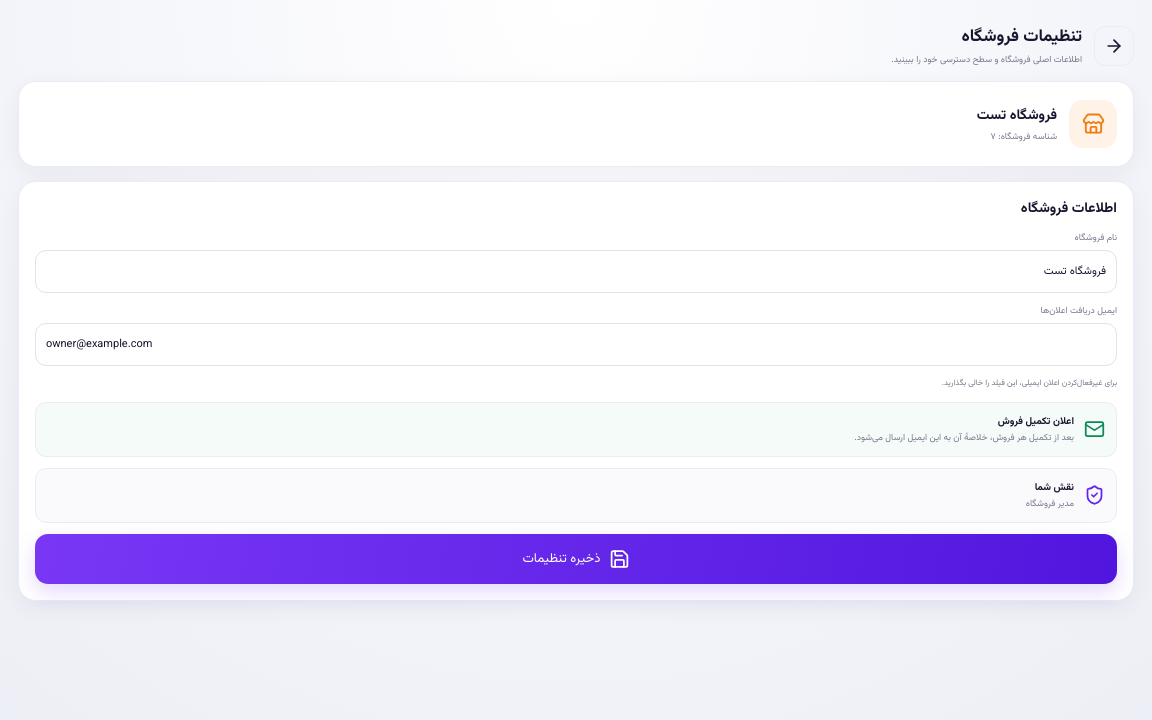
Test: StoreSettingsPage notification email › rejects an invalid email locally and displays backend field errors
This screenshot has width=1152, height=720.
In the field labelled "ایمیل دریافت اعلان‌ها": (576, 344) [35, 323, 1117, 366], type "invalid-email"
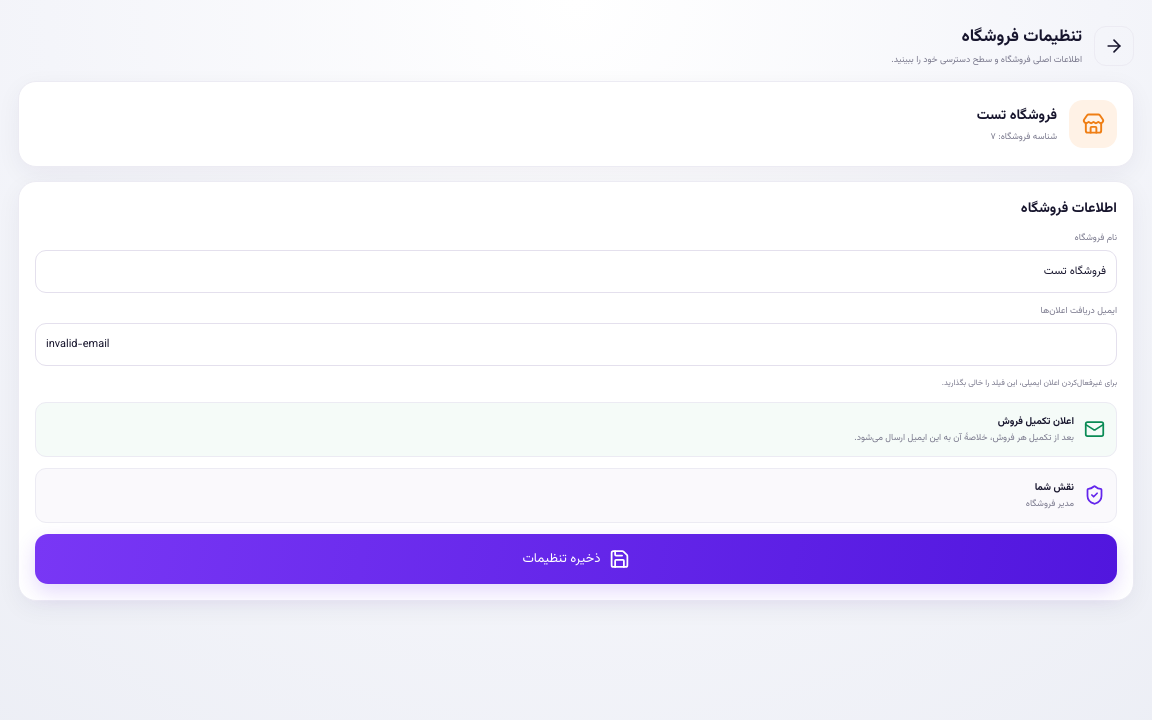
Click the button "ذخیره تنظیمات": (576, 559) [35, 534, 1117, 584]
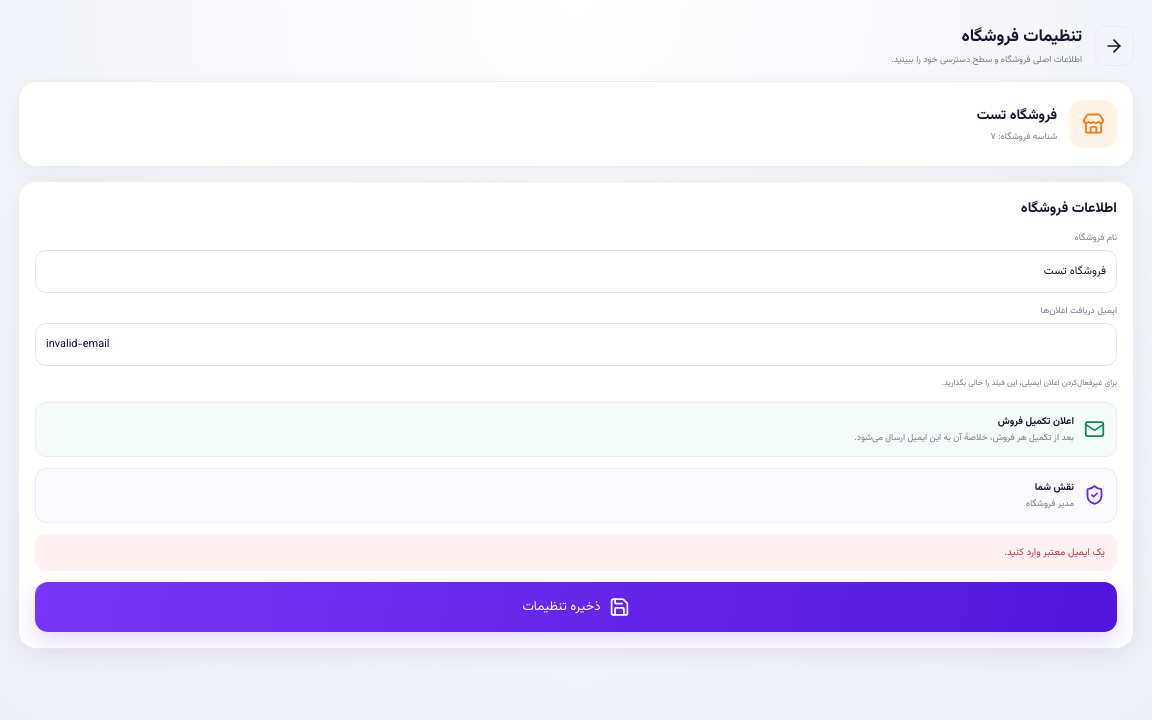
Now the text "یک ایمیل معتبر وارد کنید." is shown, box [35, 534, 1117, 571]
Replace the text in the field labelled "ایمیل دریافت اعلان‌ها" with "valid@example.com": (576, 344) [35, 323, 1117, 366]
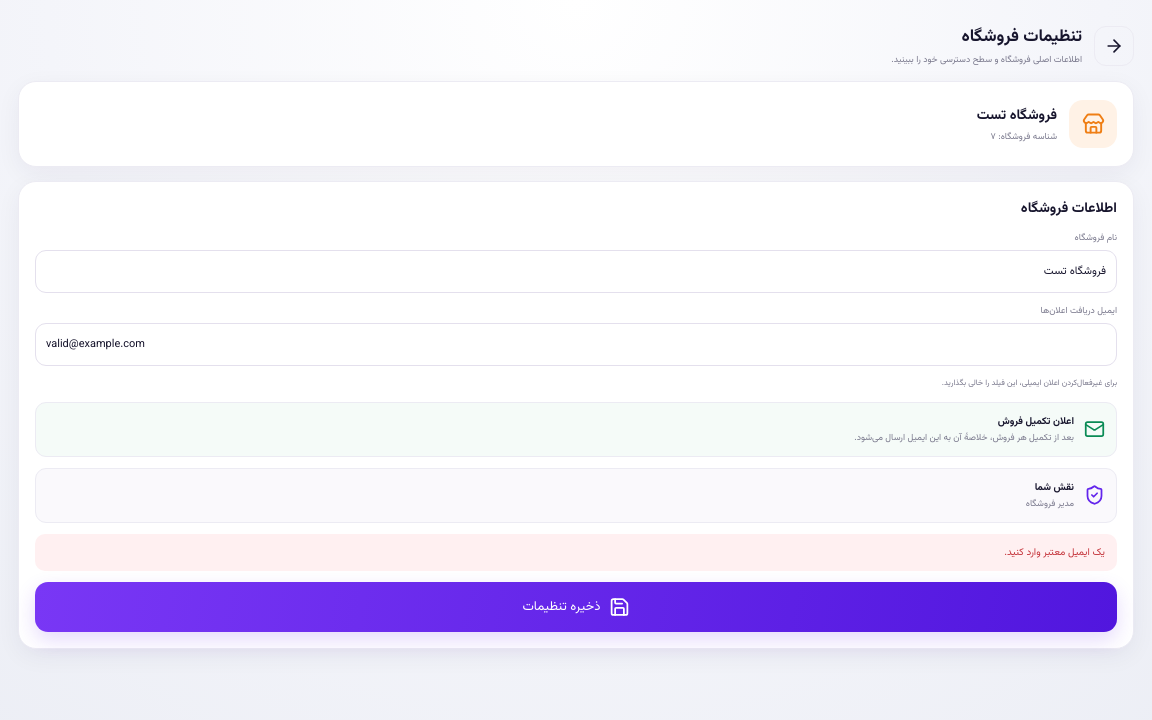
Click the button "ذخیره تنظیمات": (576, 607) [35, 582, 1117, 632]
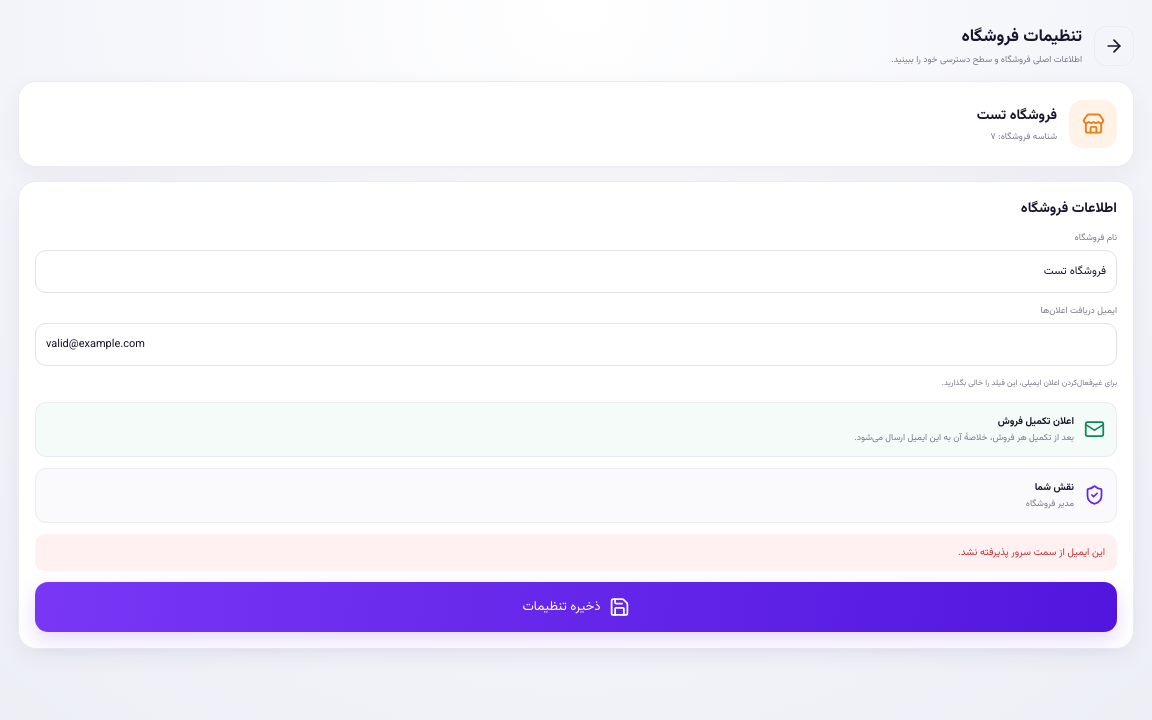
Now the text "این ایمیل از سمت سرور پذیرفته نشد." is shown, box [35, 534, 1117, 571]
